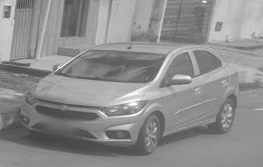car: (18, 42, 240, 155)
